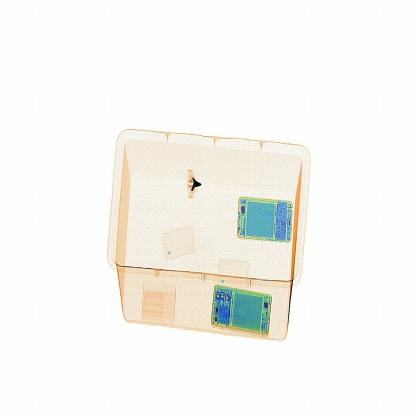gun: (179, 172, 206, 206)
